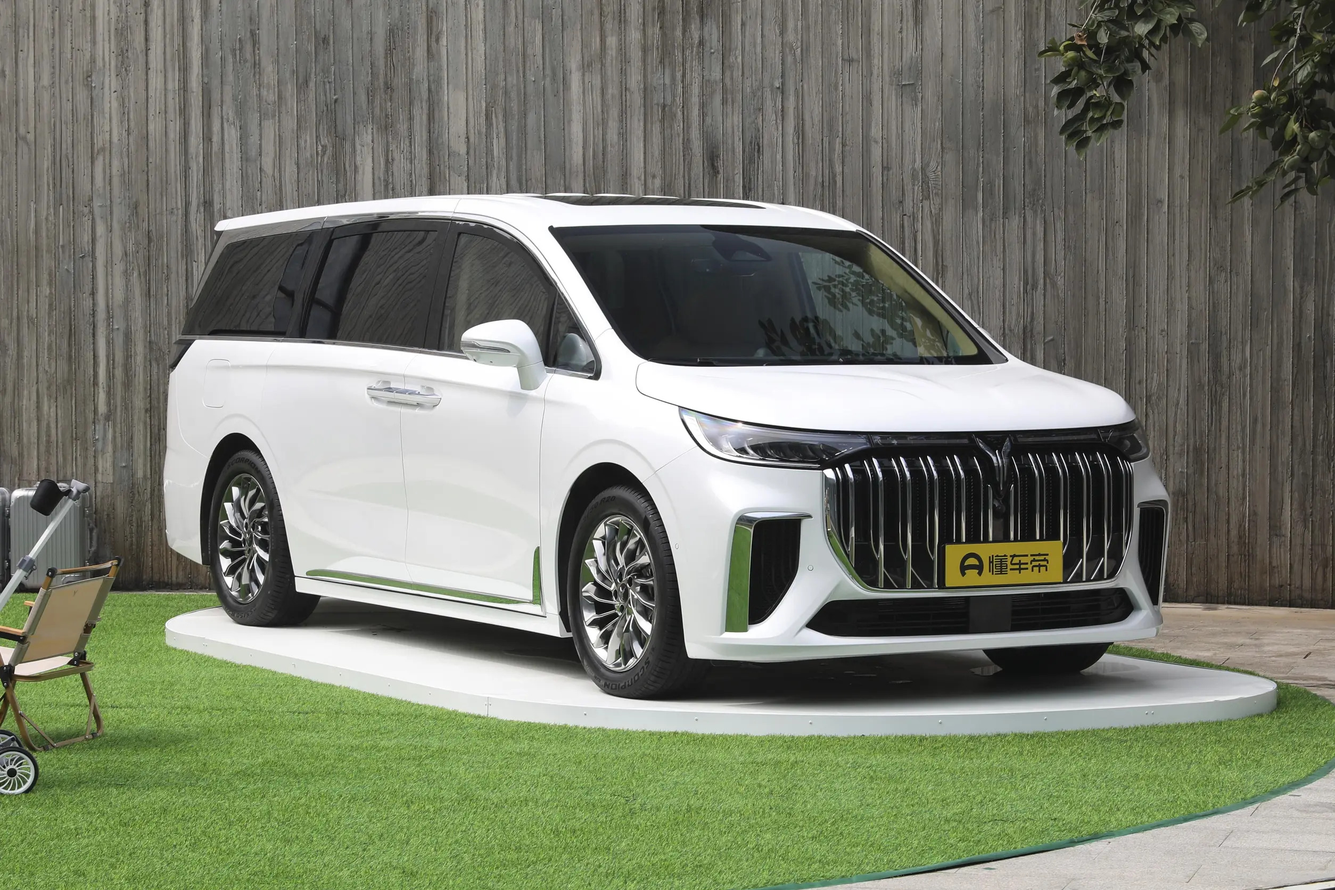VOYAH: (976, 438, 1011, 490)
